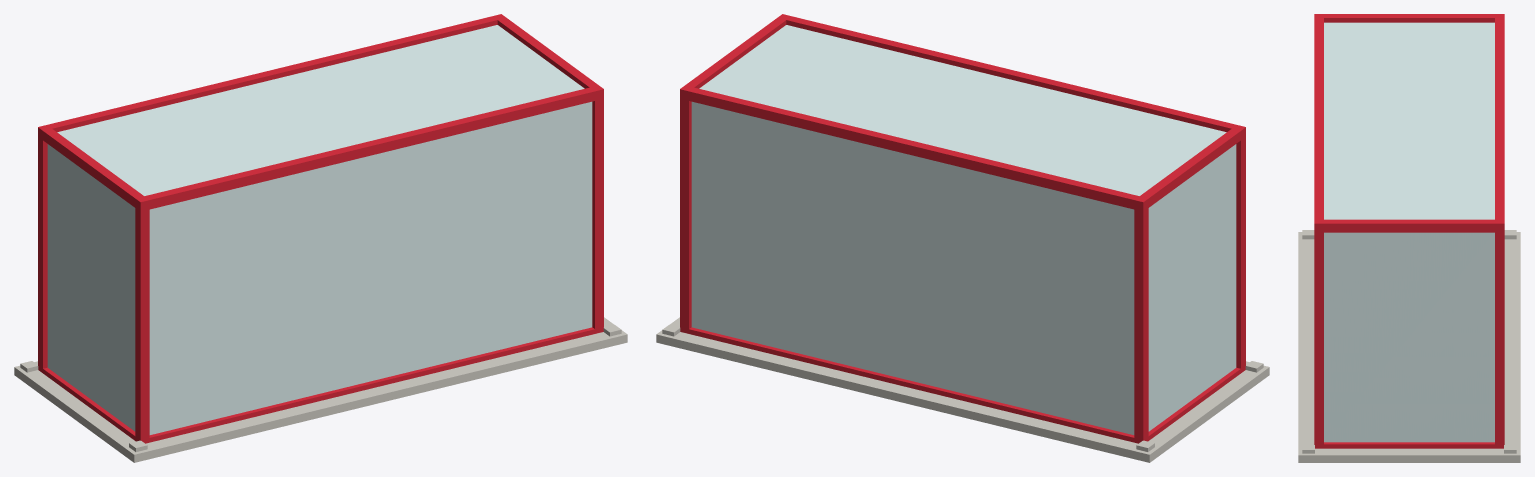
File: 6-uildeltei-eksvator.glb
3 views of the same model, side by side, from view 1: azimuth 30°, elevation 25°; view 2: azimuth 150°, elevation 25°; view 3: azimuth 270°, elevation 25° (orthographic). The views are drawn at different scales.
Bounding box in the file's own units: 0.38 × 0.1845 × 0.16.
